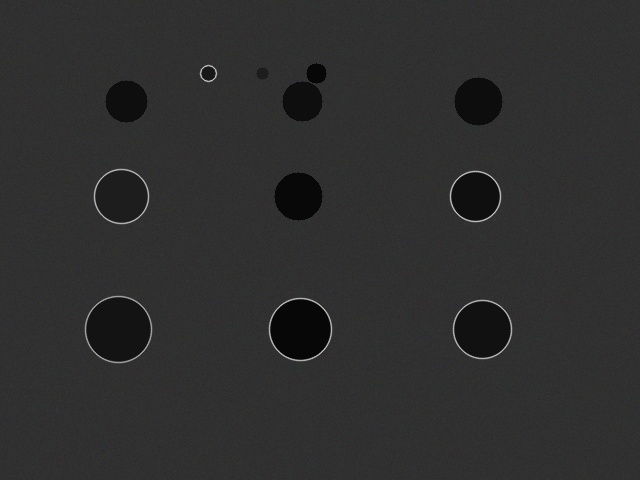hole: (85, 296, 151, 362), (269, 298, 331, 360), (453, 300, 511, 358), (94, 169, 148, 223), (450, 171, 500, 221), (454, 77, 502, 125), (274, 172, 322, 220), (105, 80, 147, 122), (282, 81, 322, 121), (306, 63, 326, 83), (200, 65, 216, 81), (256, 67, 268, 79)
